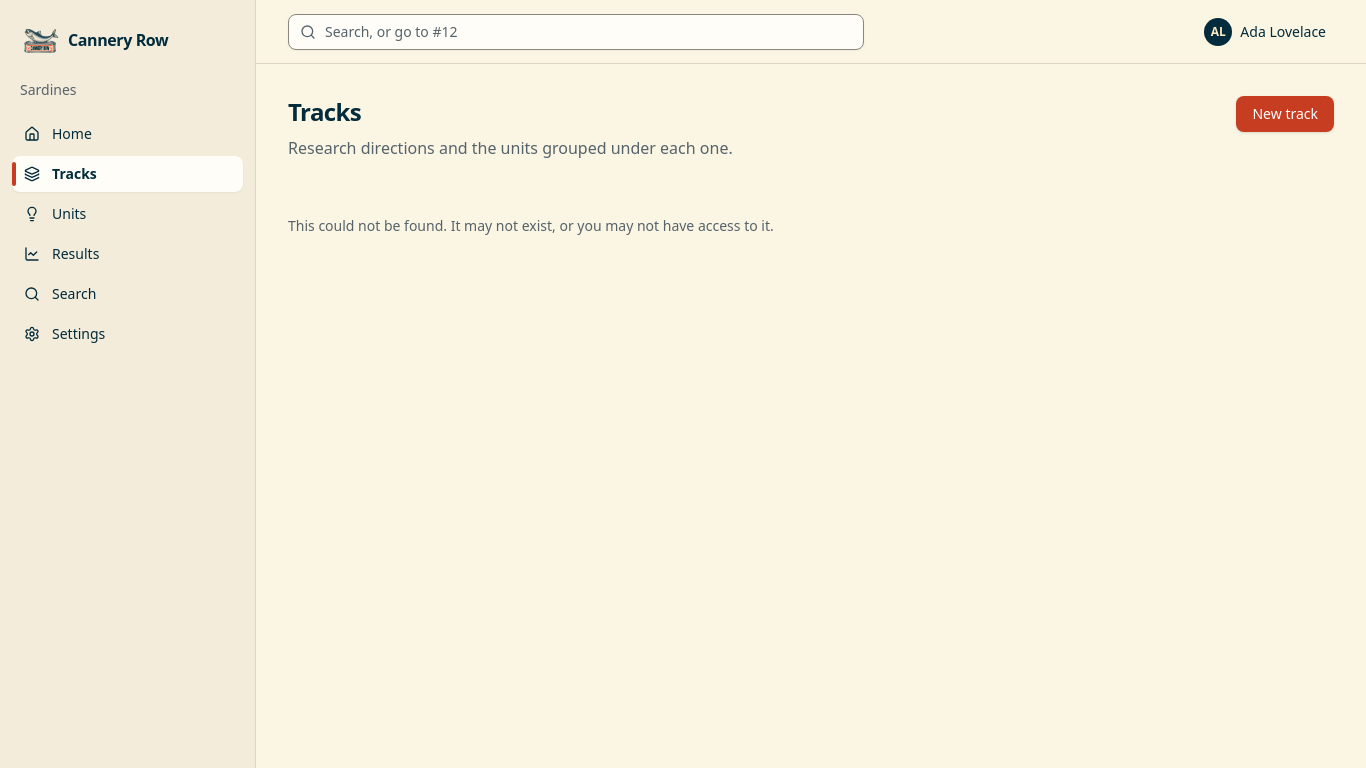
Test: a link to a project the user cannot open › says so after a search jump
Type "secret#12" into the search field labelled "Search". click: (576, 32)
box: [288, 14, 864, 50]
Then press Enter
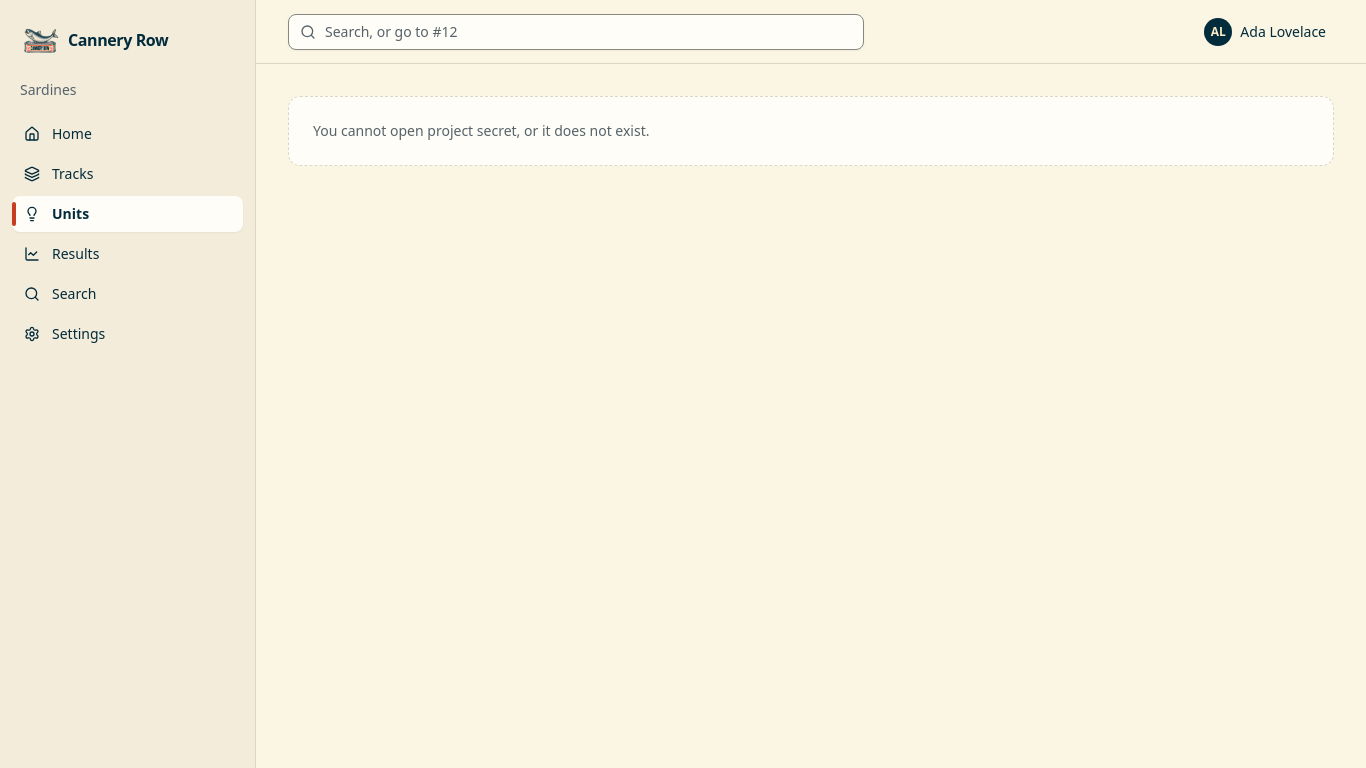
expect the text "You cannot open project secret, or it does not exist." is shown: met, box [288, 96, 1334, 166]
